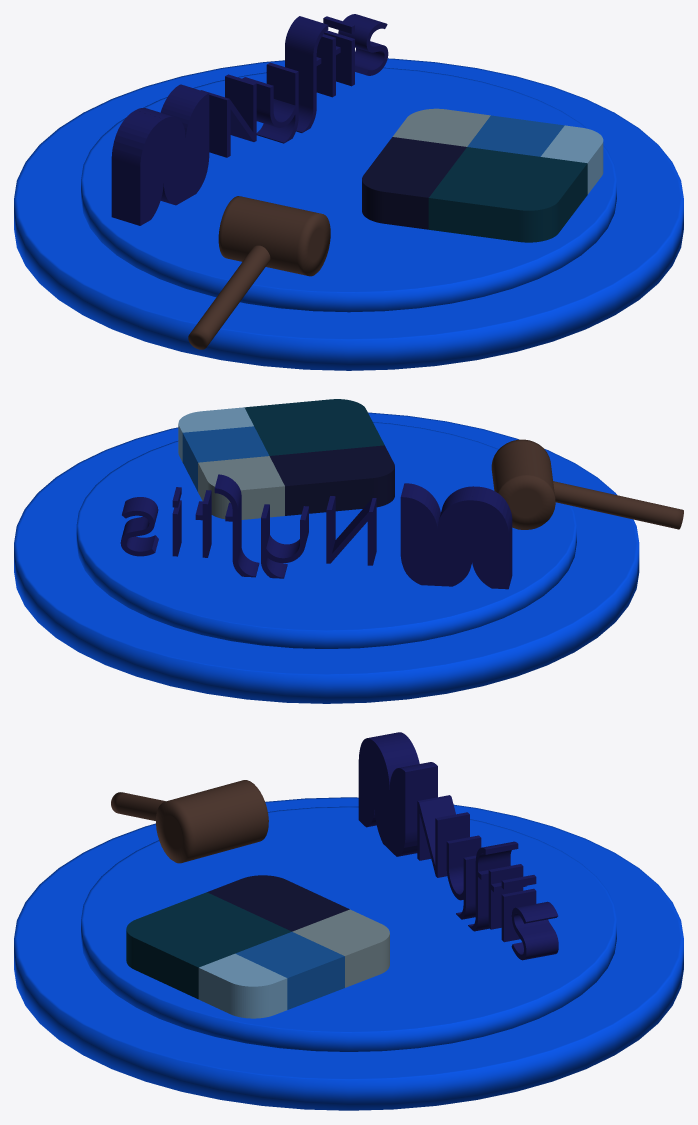
The model's file is nyftis.glb.
3 renders of one model, top to bottom at view 1: azimuth 30°, elevation 25°; view 2: azimuth 150°, elevation 25°; view 3: azimuth 270°, elevation 25°, orthographic. The views are drawn at different scales.
Visible parts, largest first — view 1: Cylinder, Curve.006, Curve, Cylinder.007; view 2: Cylinder, Curve.006, Curve, Cylinder.007; view 3: Cylinder, Curve.006, Curve, Cylinder.007.
Boxes of the visible parts, x1,y1,x2,y2 form: Cylinder: [14, 58, 683, 370]; Curve.006: [362, 108, 603, 242]; Curve: [111, 14, 388, 225]; Cylinder.007: [188, 196, 330, 349]; Cylinder: [14, 412, 639, 703]; Curve.006: [178, 399, 394, 519]; Curve: [120, 474, 512, 589]; Cylinder.007: [491, 439, 683, 529]; Cylinder: [14, 797, 683, 1110]; Curve.006: [126, 875, 389, 1018]; Curve: [358, 732, 558, 960]; Cylinder.007: [111, 780, 268, 863].
Bounding box in the file's own units: 2.73 × 0.6414 × 2.73.
